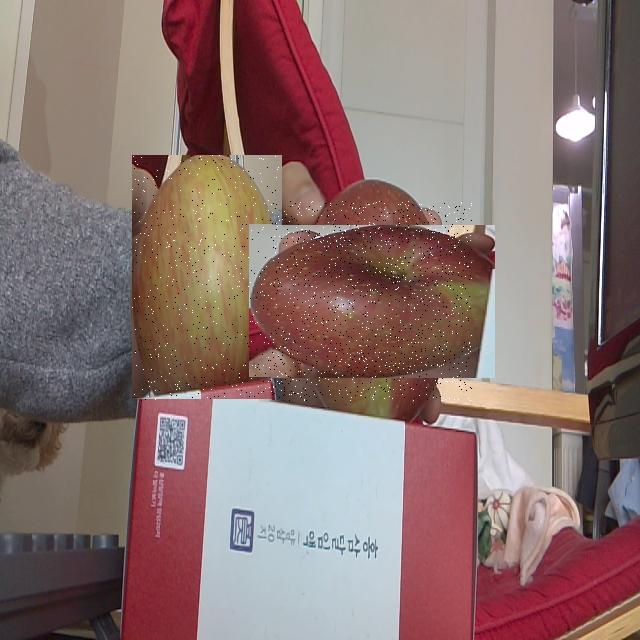apple: (272, 201, 472, 401), (132, 156, 282, 402)
